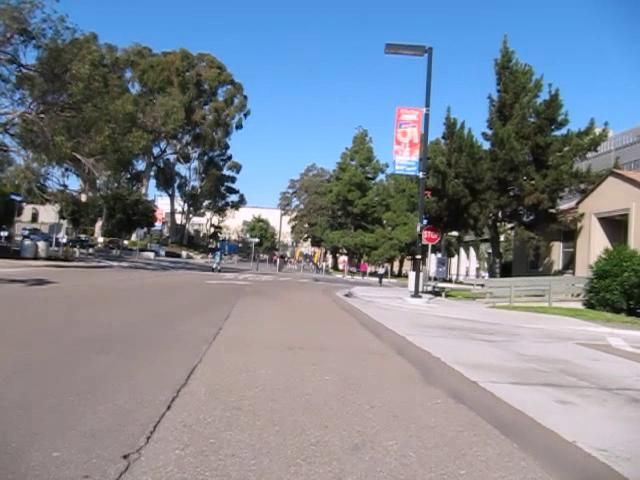stop: (422, 223, 442, 244)
